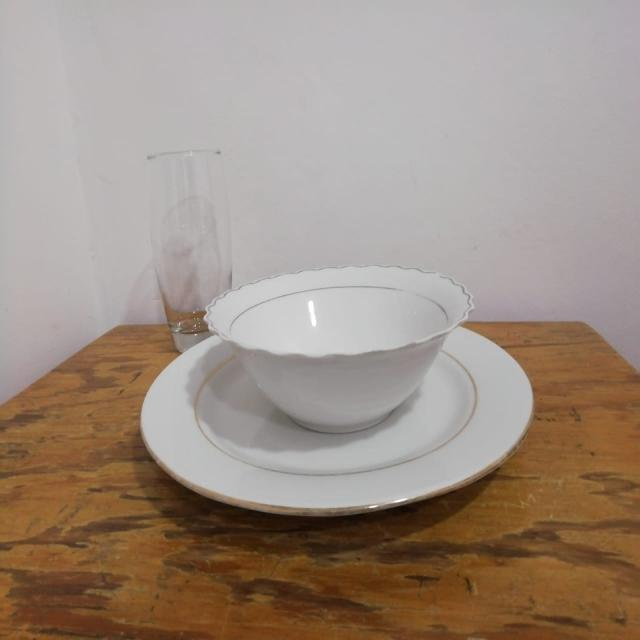non-organic waste: (123, 307, 533, 531), (209, 270, 459, 431)
